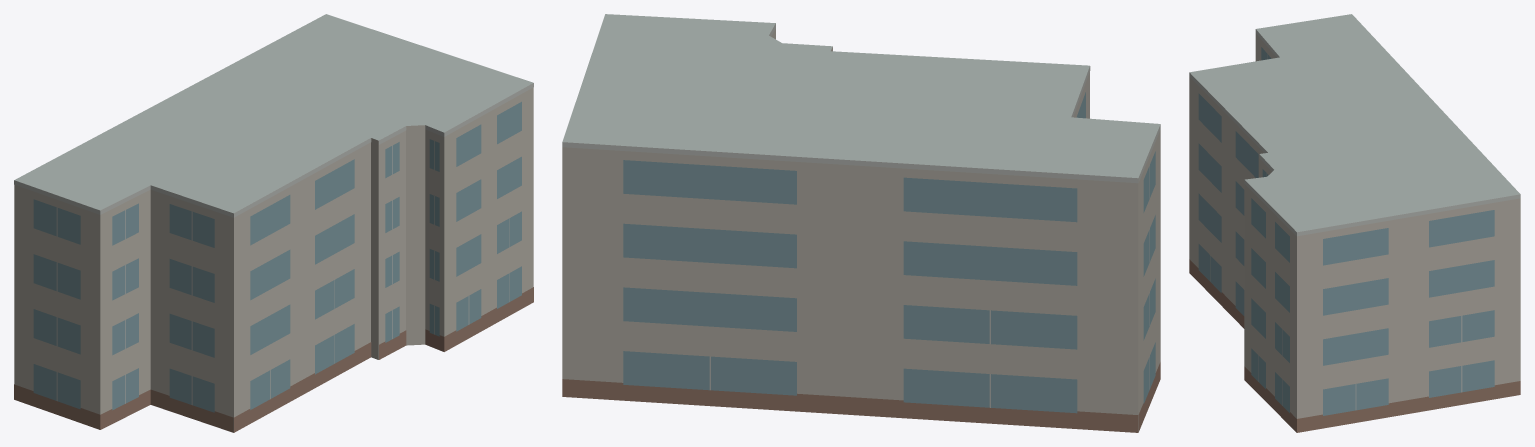
File: survey-upis-33017035.glb
The picture shows the model from 3 angles, left to right: view 1: azimuth 30°, elevation 25°; view 2: azimuth 150°, elevation 25°; view 3: azimuth 270°, elevation 25°; orthographic projection. The views are drawn at different scales.
Visible parts, largest first — view 1: survey-upis-33017035.tmp; view 2: survey-upis-33017035.tmp; view 3: survey-upis-33017035.tmp.
Part boxes in pixels (x1,y1,x2,y2): survey-upis-33017035.tmp: (14, 14, 533, 432); survey-upis-33017035.tmp: (562, 14, 1160, 432); survey-upis-33017035.tmp: (1189, 14, 1520, 432).
Bounding box in the file's own units: 28.49 × 12.2 × 18.27.
